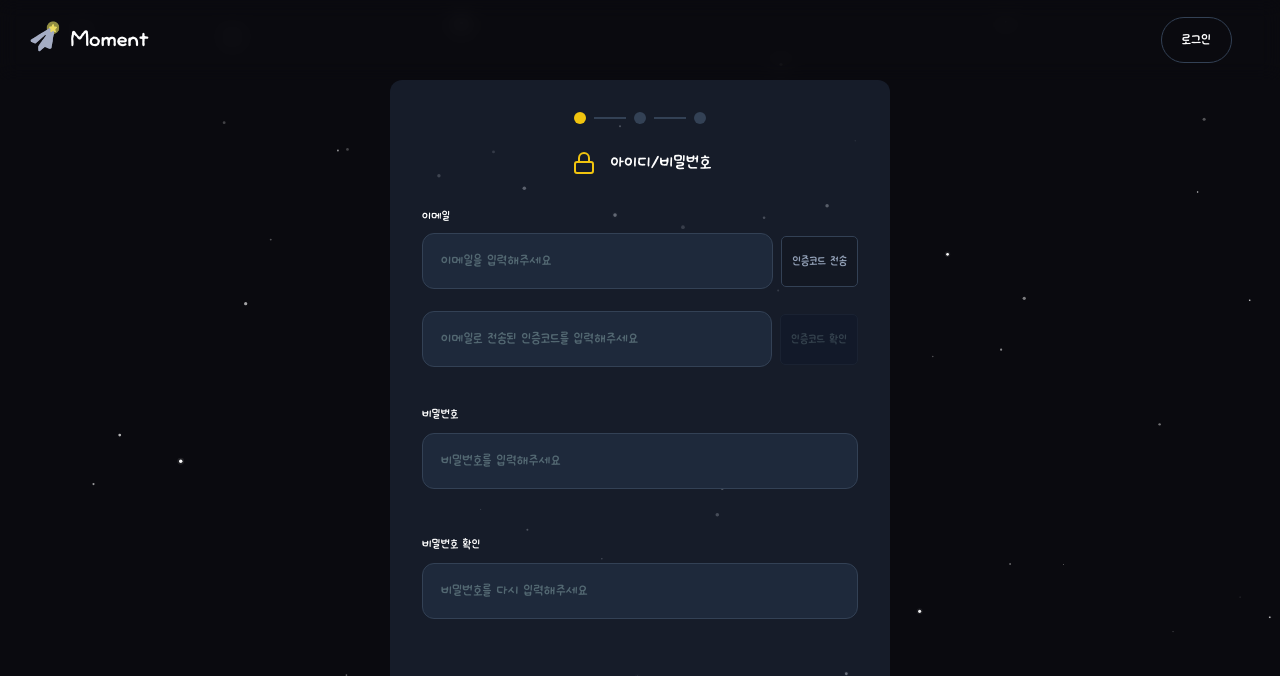
it: 회원가입 › 시나리오 1: 전체 회원가입 플로우 › Step1 - 이메일 인증 후 비밀번호 입력하면 다음 단계로 이동한다
Type "newuser@example.com" into the field with id "email" at (598, 261), box [422, 233, 773, 289]
Click the button with aria-label "이메일 인증코드 전송" at (820, 262), box [781, 236, 858, 287]
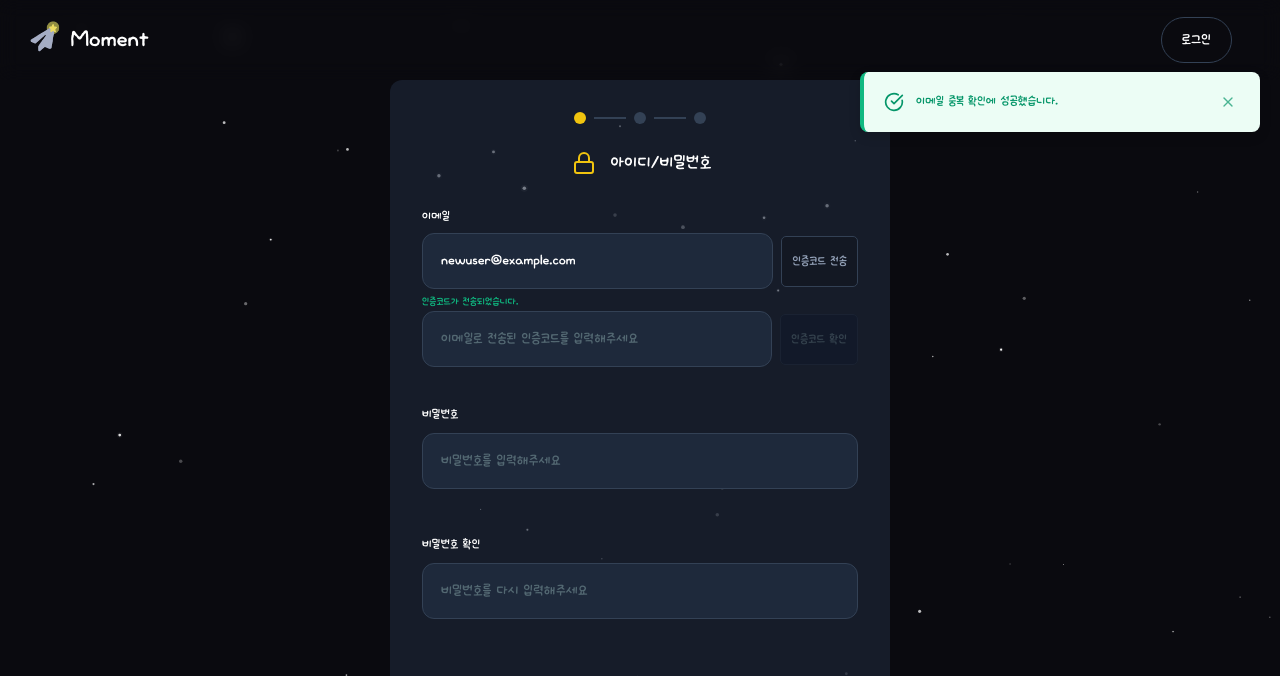
Expected: the text "인증코드가 전송되었습니다." is shown, [422, 295, 518, 308]
Type "123456" into the field with id "emailCode" at (597, 339), box [422, 311, 772, 367]
Click the button with aria-label "이메일 인증코드 확인" at (819, 340), box [780, 314, 858, 365]
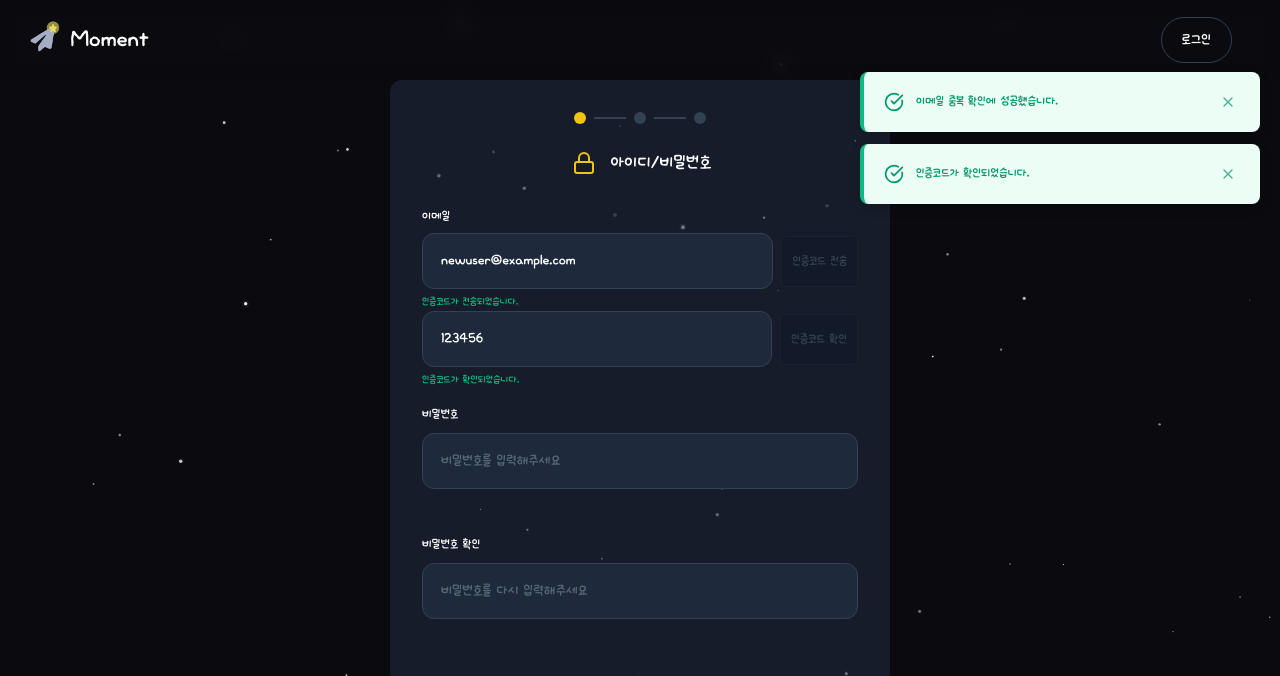
Expected: the text "인증코드가 확인되었습니다." is shown, [422, 373, 519, 386]
Type "Valid123!" into the password field labelled "비밀번호" at (640, 461), box [422, 433, 858, 489]
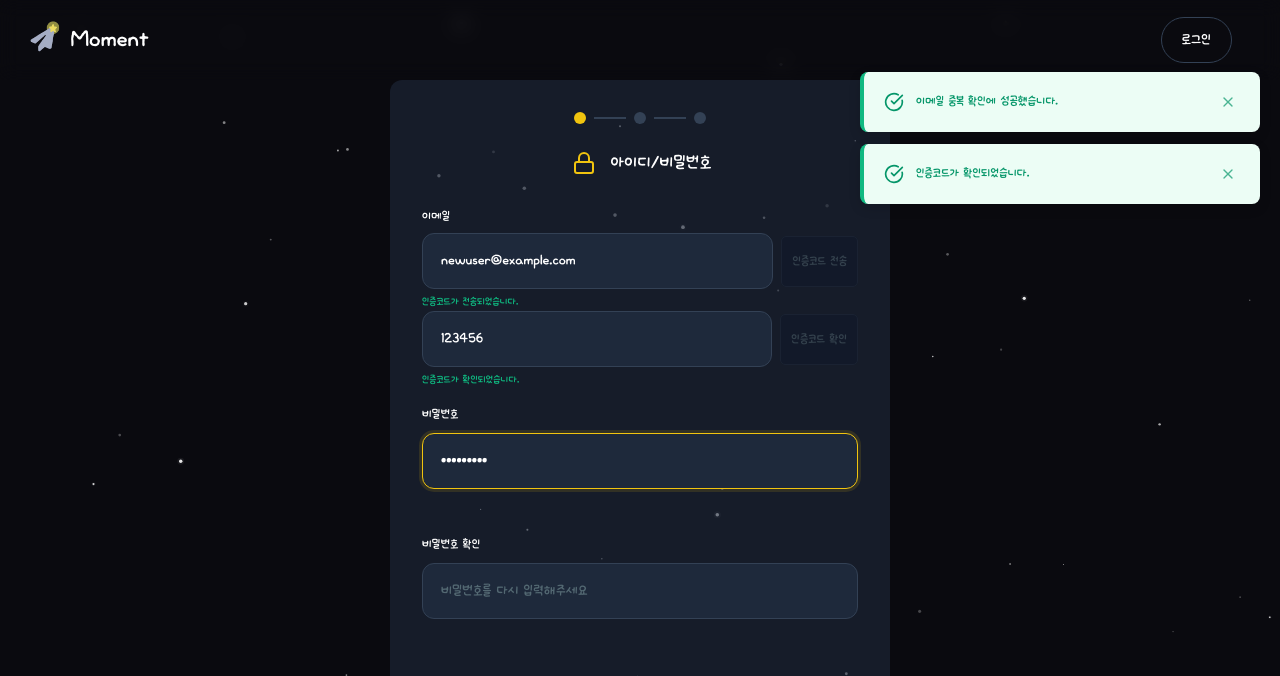
Type "Valid123!" into the password field with id "rePassword" at (640, 591), box [422, 563, 858, 619]
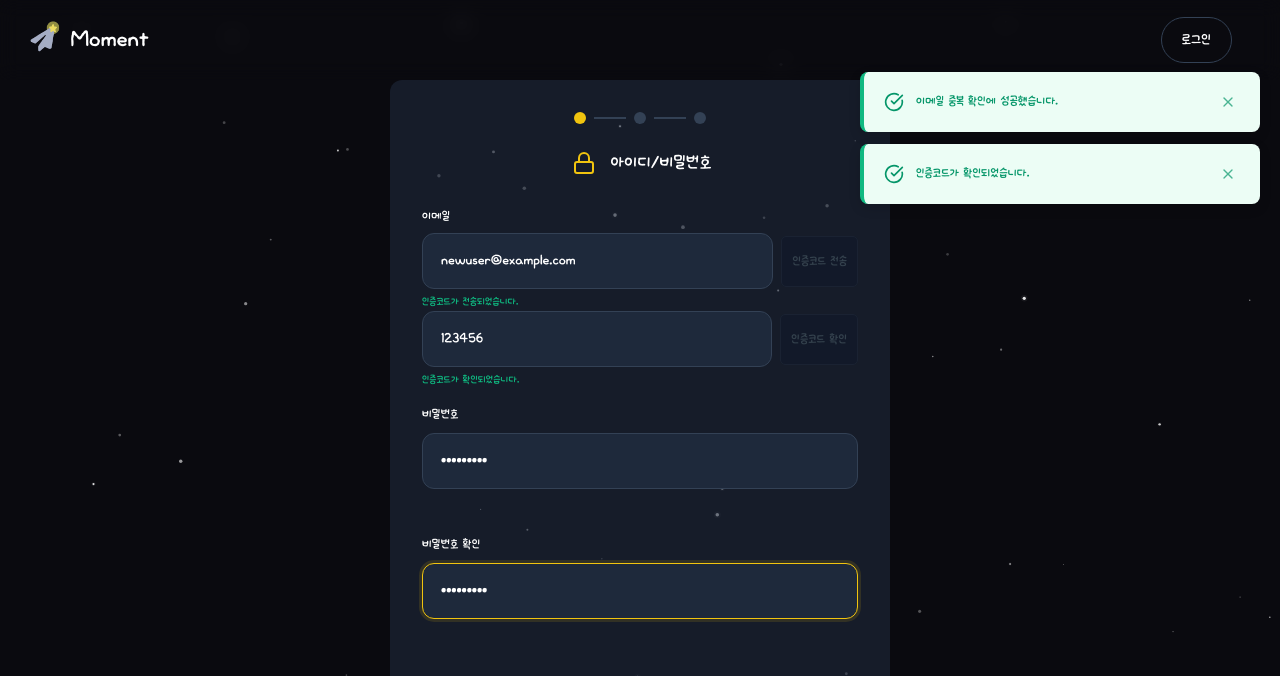
Expected: the element named "다음 단계로" is enabled
Scroll
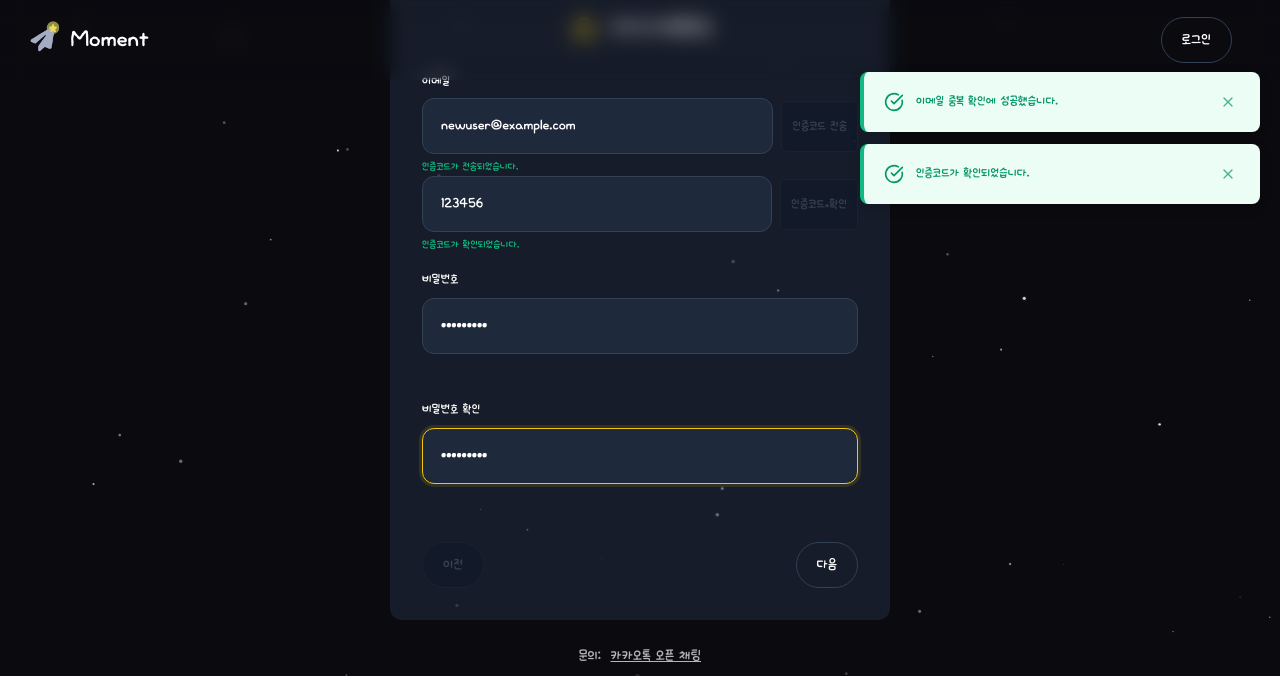
Click the button with aria-label "다음 단계로" at (827, 565), box [796, 542, 858, 588]
(page scrolled)
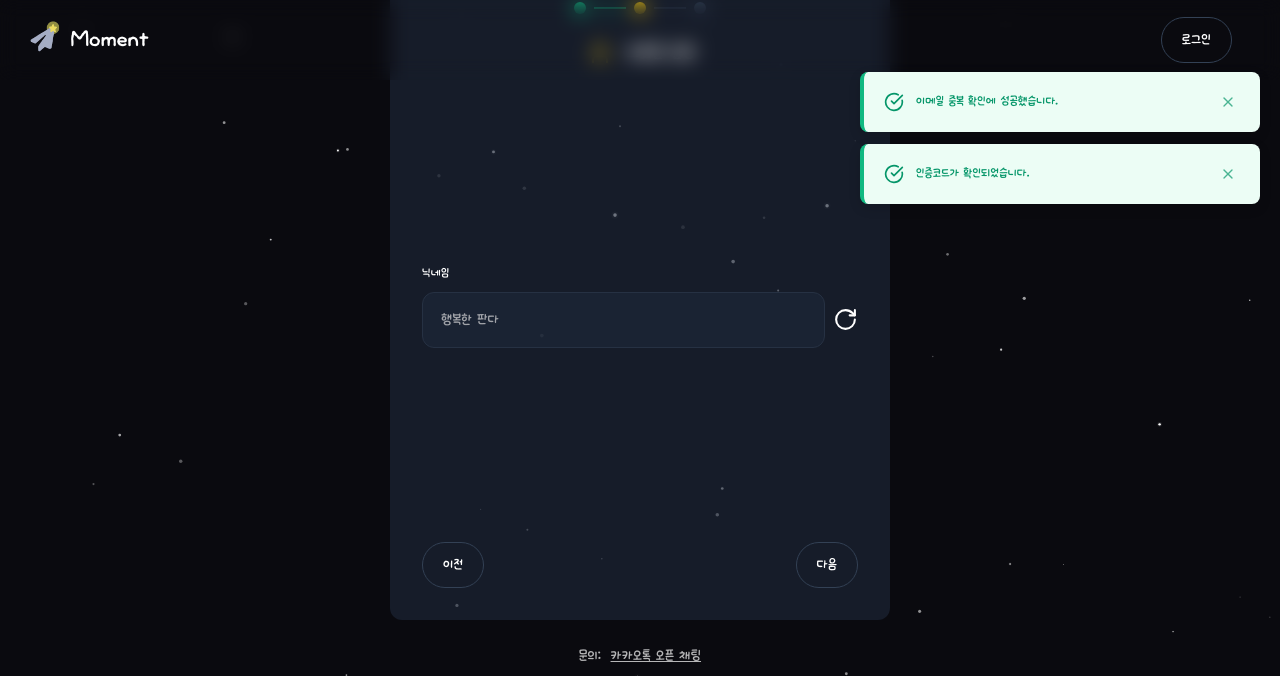
Expected: the field with id "nickname" is shown, [422, 292, 825, 348]
